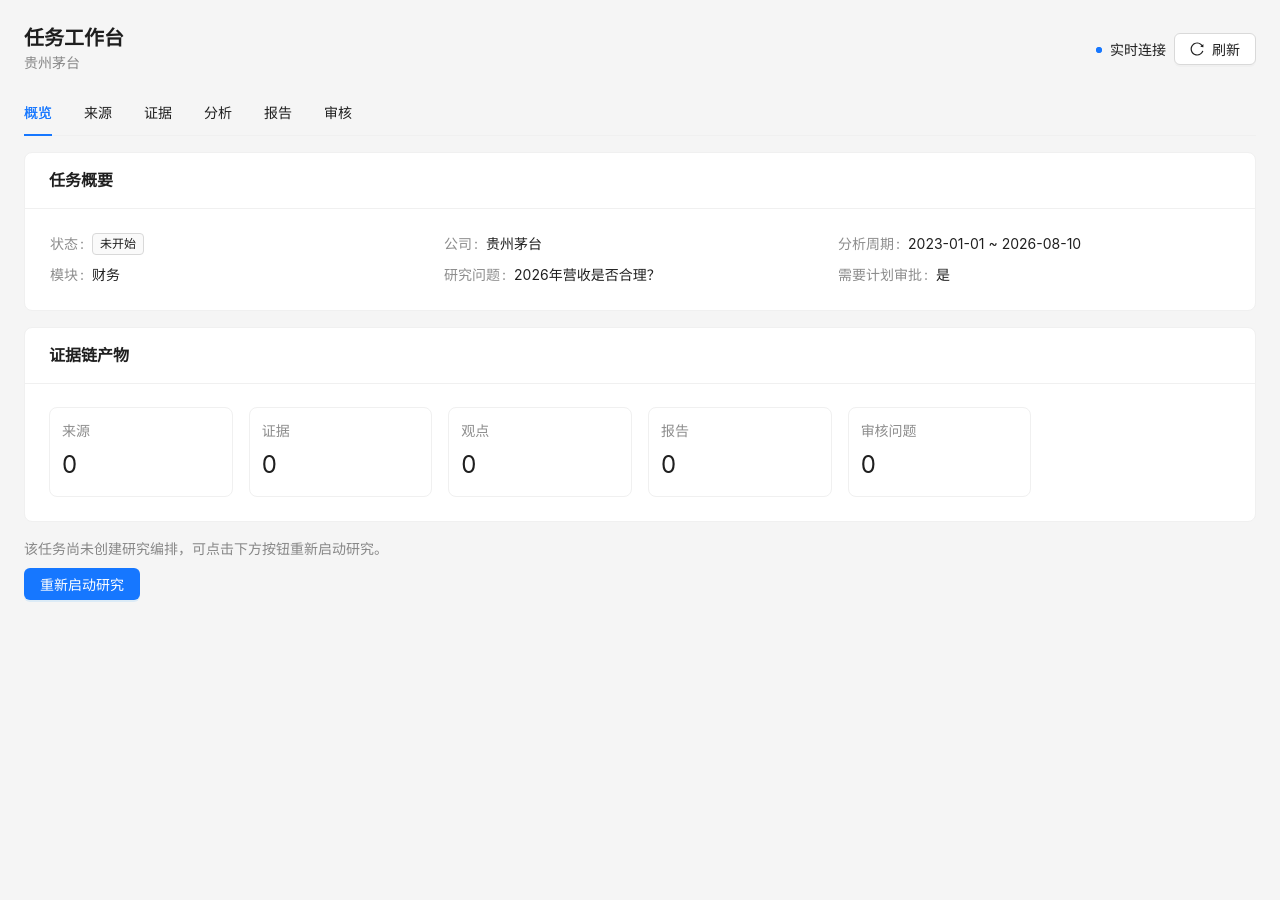
it: TaskWorkspacePage citation navigation（Stage 6B.2 spec O/P/Q） › 报告 tab 点击观点 Tag → 打开 claim citation 抽屉
Check: the text "任务概要" is shown, box [49,170,113,190]
Click the tab "报告" at (278, 113), box [264,102,292,124]
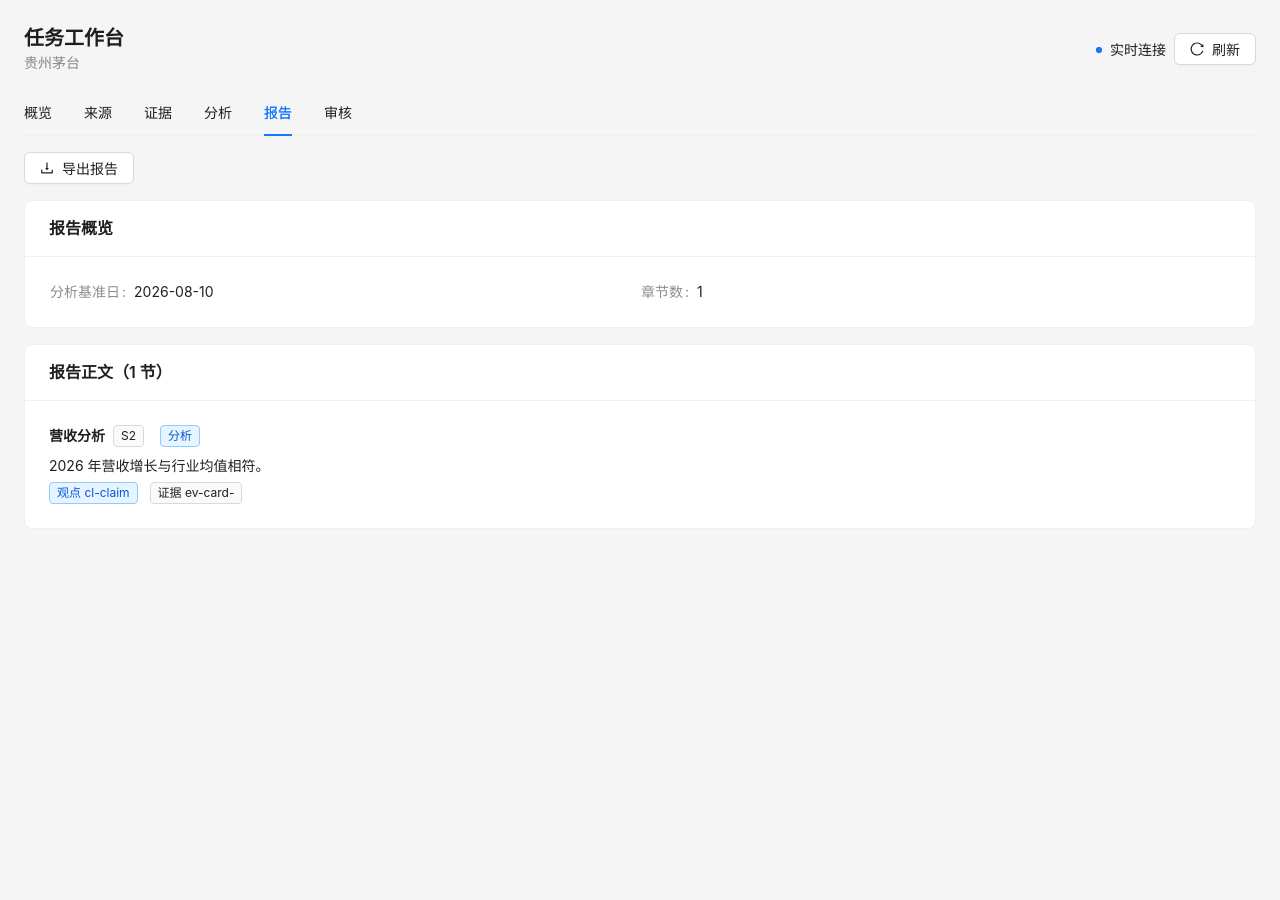
Check: the text "营收分析" is shown, box [49,426,105,444]
Click the text "观点 cl-claim" at (93, 493), box [49,482,138,504]
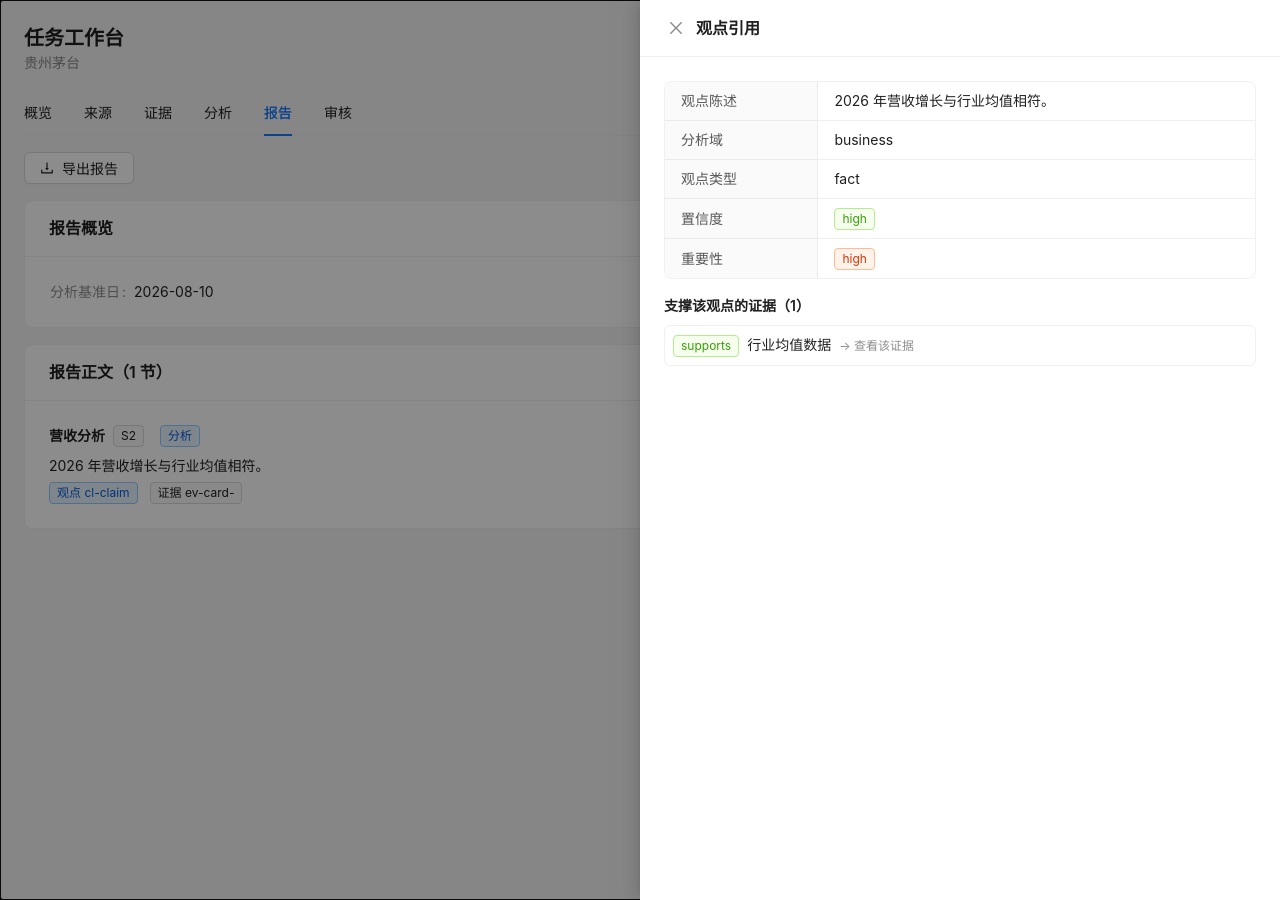
Check: the text "支撑该观点的证据（1）" is shown, box [664,297,810,314]
